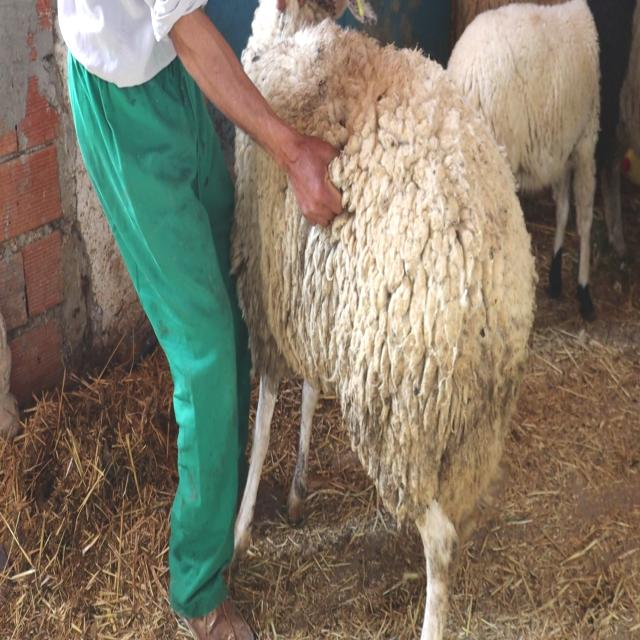Score_4: (232, 0, 538, 639)
